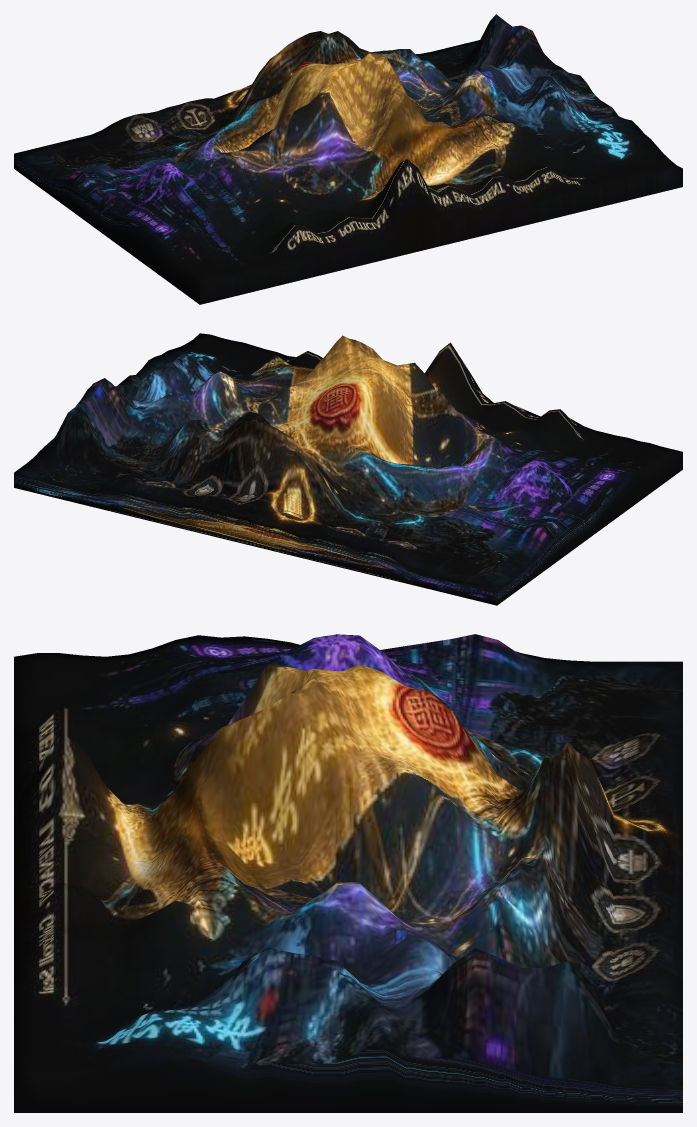
File: CAREER_12_VFX_03_Law.glb
3 renders of one model, top to bottom at view 1: azimuth 30°, elevation 25°; view 2: azimuth 150°, elevation 25°; view 3: azimuth 270°, elevation 25°, orthographic. The views are drawn at different scales.
Visible parts, largest first — view 1: CAREER_12_VFX_03_Law; view 2: CAREER_12_VFX_03_Law; view 3: CAREER_12_VFX_03_Law.
Boxes of the visible parts, x1=… form: CAREER_12_VFX_03_Law: x1=14, y1=14, x2=682, y2=304; CAREER_12_VFX_03_Law: x1=14, y1=333, x2=682, y2=605; CAREER_12_VFX_03_Law: x1=14, y1=634, x2=682, y2=1112.
Size of the model in its own units: 2 by 0.51 by 1.33.
1 material, 1 textured.
